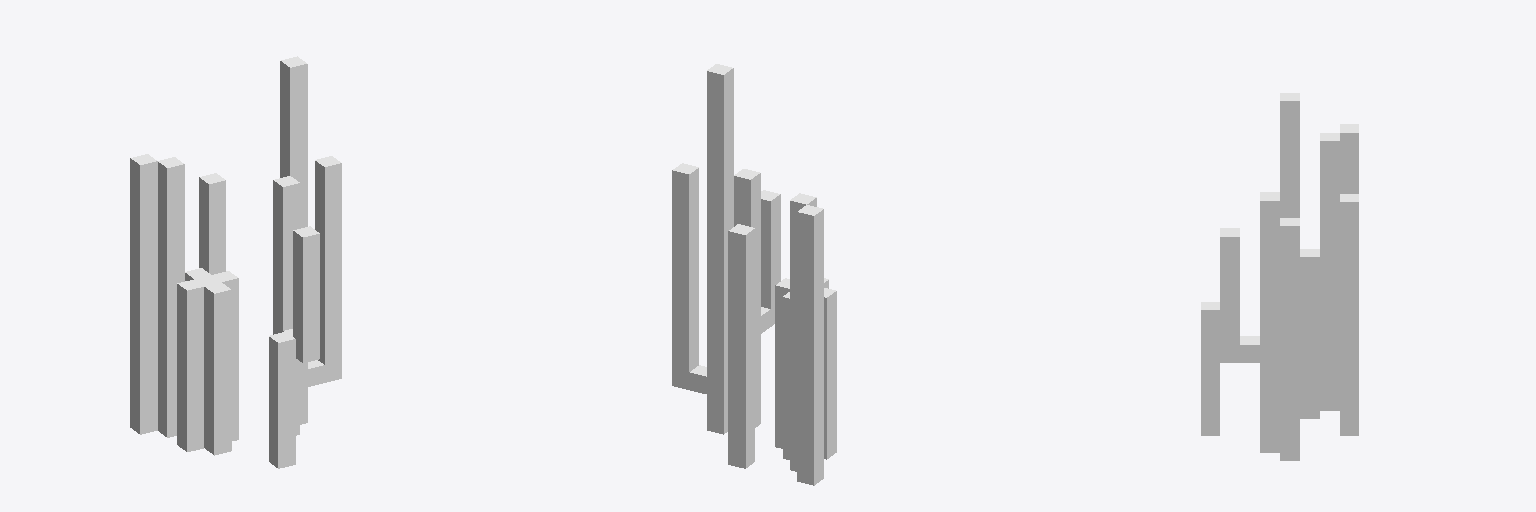
Rendered from trawa_sawana.obj.
3 views of the same model, side by side, from view 1: azimuth 30°, elevation 25°; view 2: azimuth 150°, elevation 25°; view 3: azimuth 270°, elevation 25° (orthographic).
Visible parts, largest first — view 1: object 1; view 2: object 1; view 3: object 1.
Part boxes in pixels (bbox=[...]): object 1: bbox=[130, 56, 341, 468]; object 1: bbox=[672, 64, 836, 485]; object 1: bbox=[1201, 93, 1358, 460].
Size of the model in its own units: 1 by 2 by 0.8.